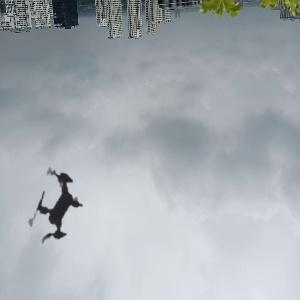drone: (1, 152, 117, 268)
